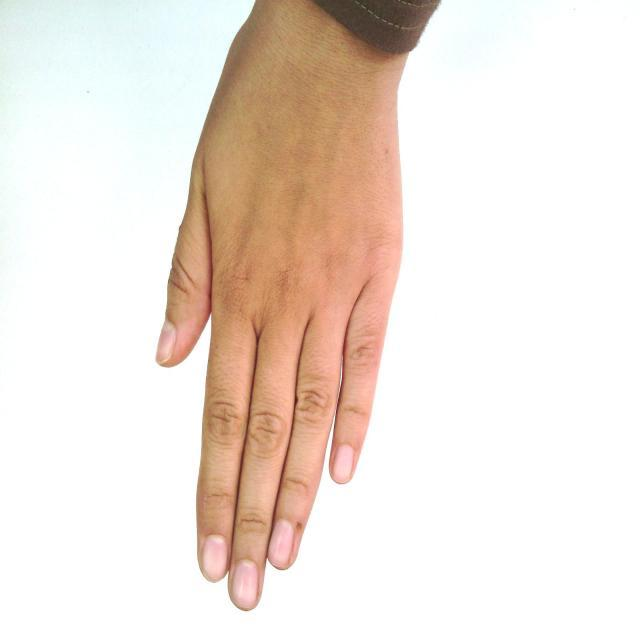Fingernail: (233, 561, 258, 609), (268, 520, 293, 567), (203, 535, 227, 581), (333, 446, 352, 482), (157, 323, 174, 361)
